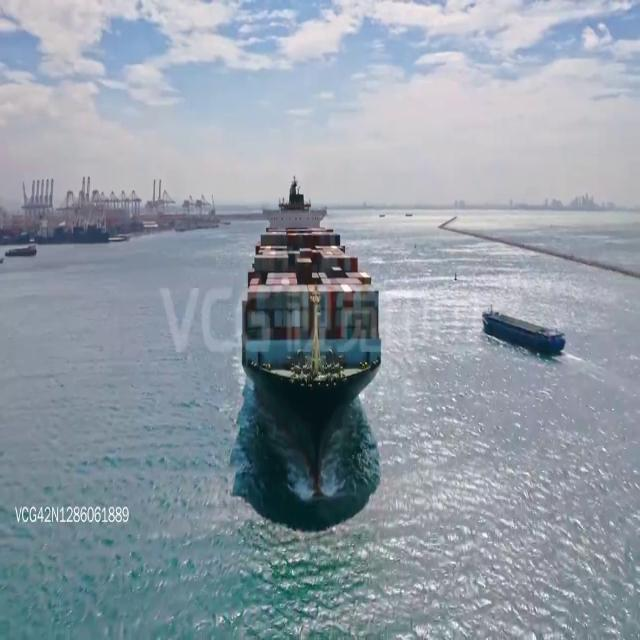cargoship: (244, 167, 383, 488), (483, 296, 564, 364)
